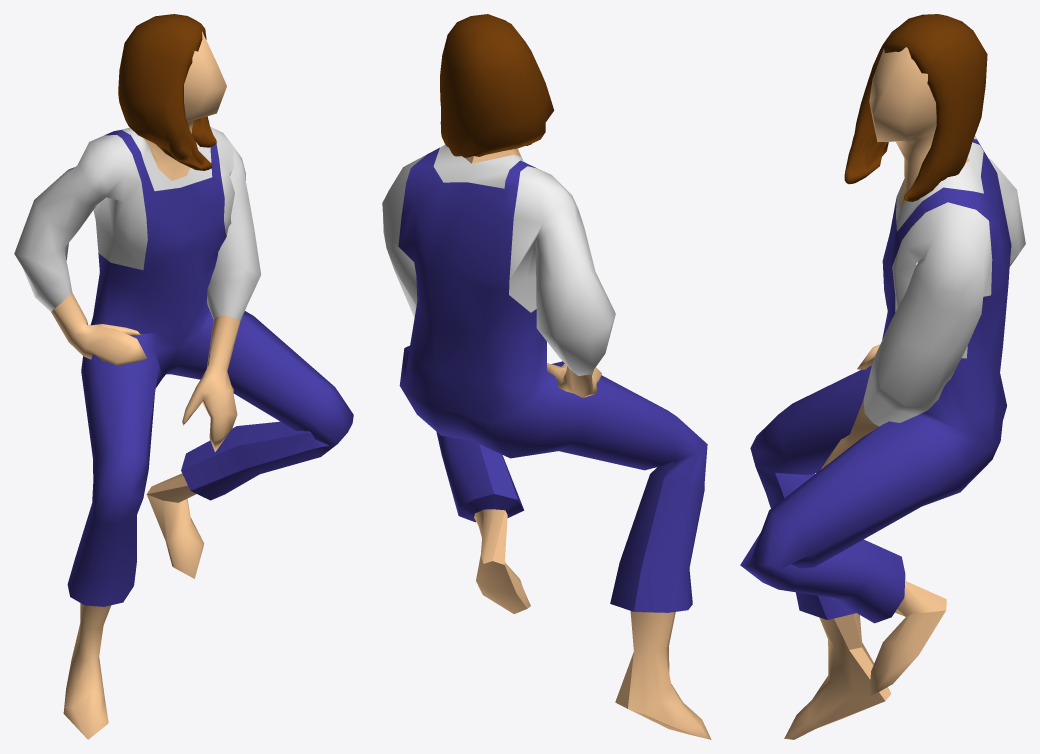
File: npctest4.fbx
The picture shows the model from 3 angles, left to right: view 1: azimuth 30°, elevation 25°; view 2: azimuth 150°, elevation 25°; view 3: azimuth 270°, elevation 25°; orthographic projection. The views are drawn at different scales.
Visible parts, largest first — view 1: GirlSit_00.001; view 2: GirlSit_00.001; view 3: GirlSit_00.001.
Boxes of the visible parts, box(x1,y1,x2,y2) form: GirlSit_00.001: box(14, 14, 353, 739); GirlSit_00.001: box(382, 14, 711, 739); GirlSit_00.001: box(740, 14, 1025, 739).
Size of the model in its own units: 75.28 by 173 by 55.74.
